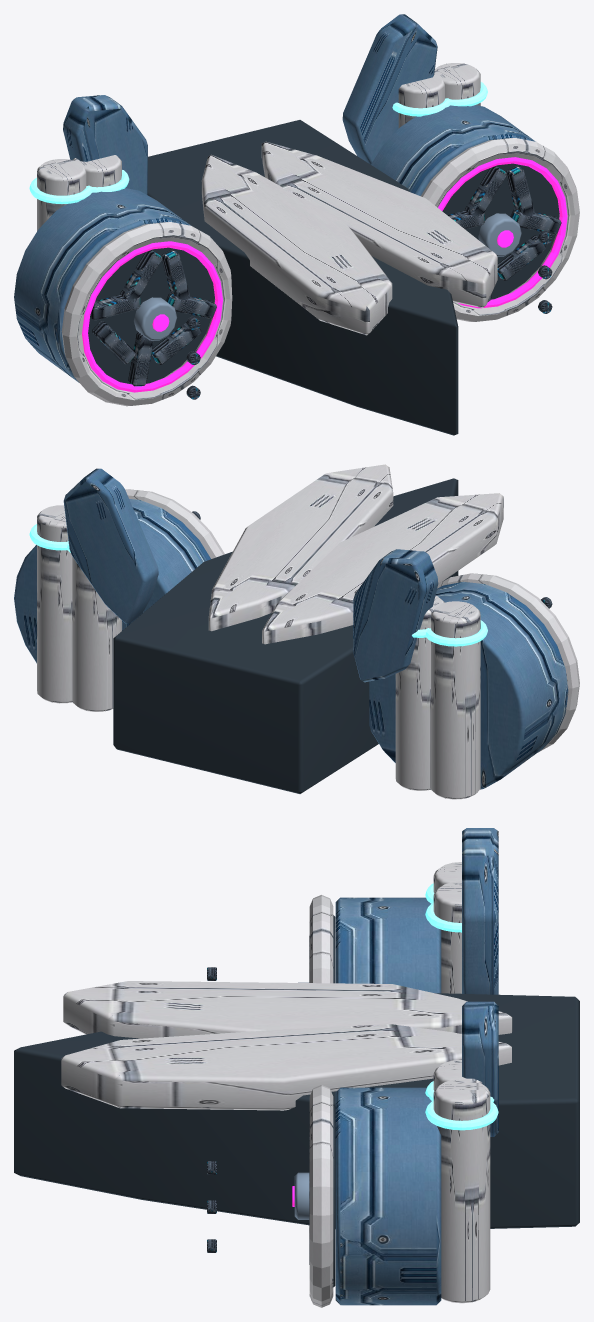
The model's file is sector_03_4.glb.
The picture shows the model from 3 angles, top to bottom: view 1: azimuth 30°, elevation 25°; view 2: azimuth 150°, elevation 25°; view 3: azimuth 270°, elevation 25°; orthographic projection. The views are drawn at different scales.
Visible parts, largest first — view 1: Split arrow nose, Pointed interceptor chassis, Swept dorsal vane, Turbine impeller blade, Turbine running light, Turbine hub, Coolant collar; view 2: Split arrow nose, Pointed interceptor chassis, Swept dorsal vane, Coolant collar; view 3: Split arrow nose, Pointed interceptor chassis, Swept dorsal vane, Coolant collar, Turbine hub, Turbine impeller blade.
Part boxes in pixels (x1,y1,x2,y2): Split arrow nose: [37, 63, 579, 406]; Pointed interceptor chassis: [88, 120, 559, 435]; Swept dorsal vane: [14, 14, 535, 382]; Turbine impeller blade: [90, 165, 561, 399]; Turbine running light: [82, 157, 567, 392]; Turbine hub: [134, 213, 521, 340]; Coolant collar: [29, 82, 487, 203]; Split arrow nose: [37, 464, 579, 799]; Pointed interceptor chassis: [113, 478, 458, 793]; Swept dorsal vane: [14, 468, 568, 789]; Coolant collar: [29, 524, 487, 646]; Split arrow nose: [61, 862, 512, 1307]; Pointed interceptor chassis: [14, 915, 579, 1287]; Swept dorsal vane: [335, 828, 498, 1305]; Coolant collar: [425, 883, 498, 1130]; Turbine hub: [294, 982, 309, 1219]; Turbine impeller blade: [207, 936, 309, 1264].
Bounding box in the file's own units: 1.47 × 0.6893 × 1.23.
Materials: 7 (3 with a texture image).
